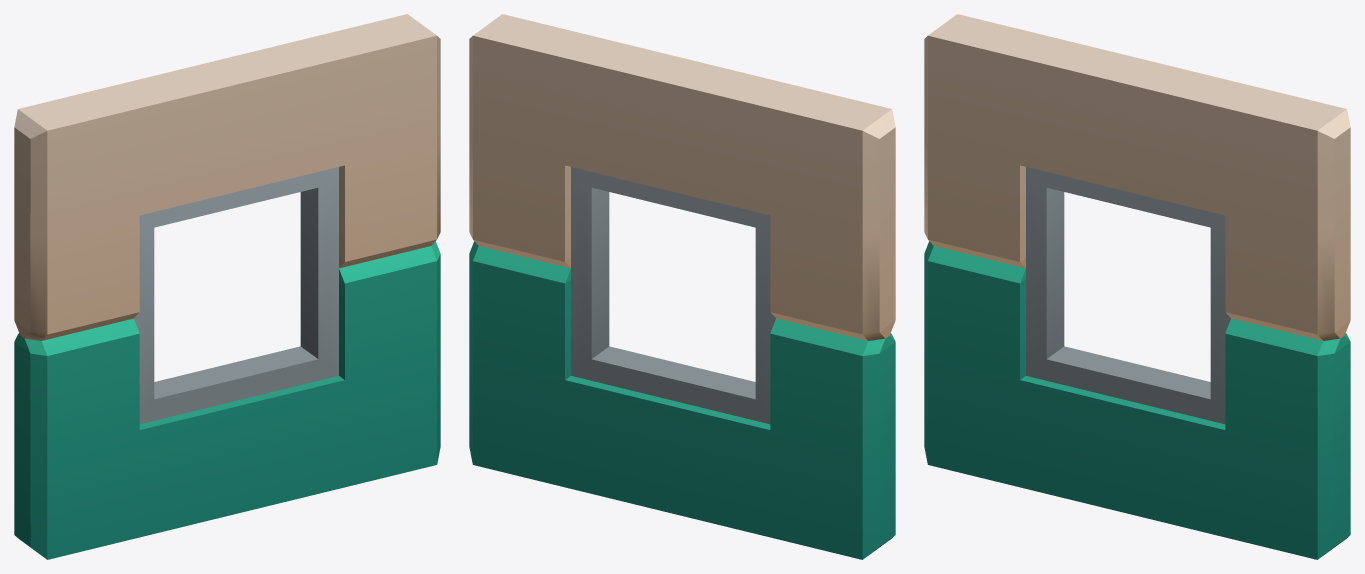
Rendered from wall_window.glb.
3 views of the same model, side by side, from view 1: azimuth 30°, elevation 25°; view 2: azimuth 150°, elevation 25°; view 3: azimuth 330°, elevation 25° (orthographic).
Visible parts, largest first — view 1: wall_window_open; view 2: wall_window_open; view 3: wall_window_open.
Boxes of the visible parts, x1=… form: wall_window_open: x1=14, y1=14, x2=440, y2=559; wall_window_open: x1=469, y1=14, x2=895, y2=559; wall_window_open: x1=924, y1=14, x2=1350, y2=559.
Size of the model in its own units: 4 by 4 by 0.5.
1 material, 1 textured.
